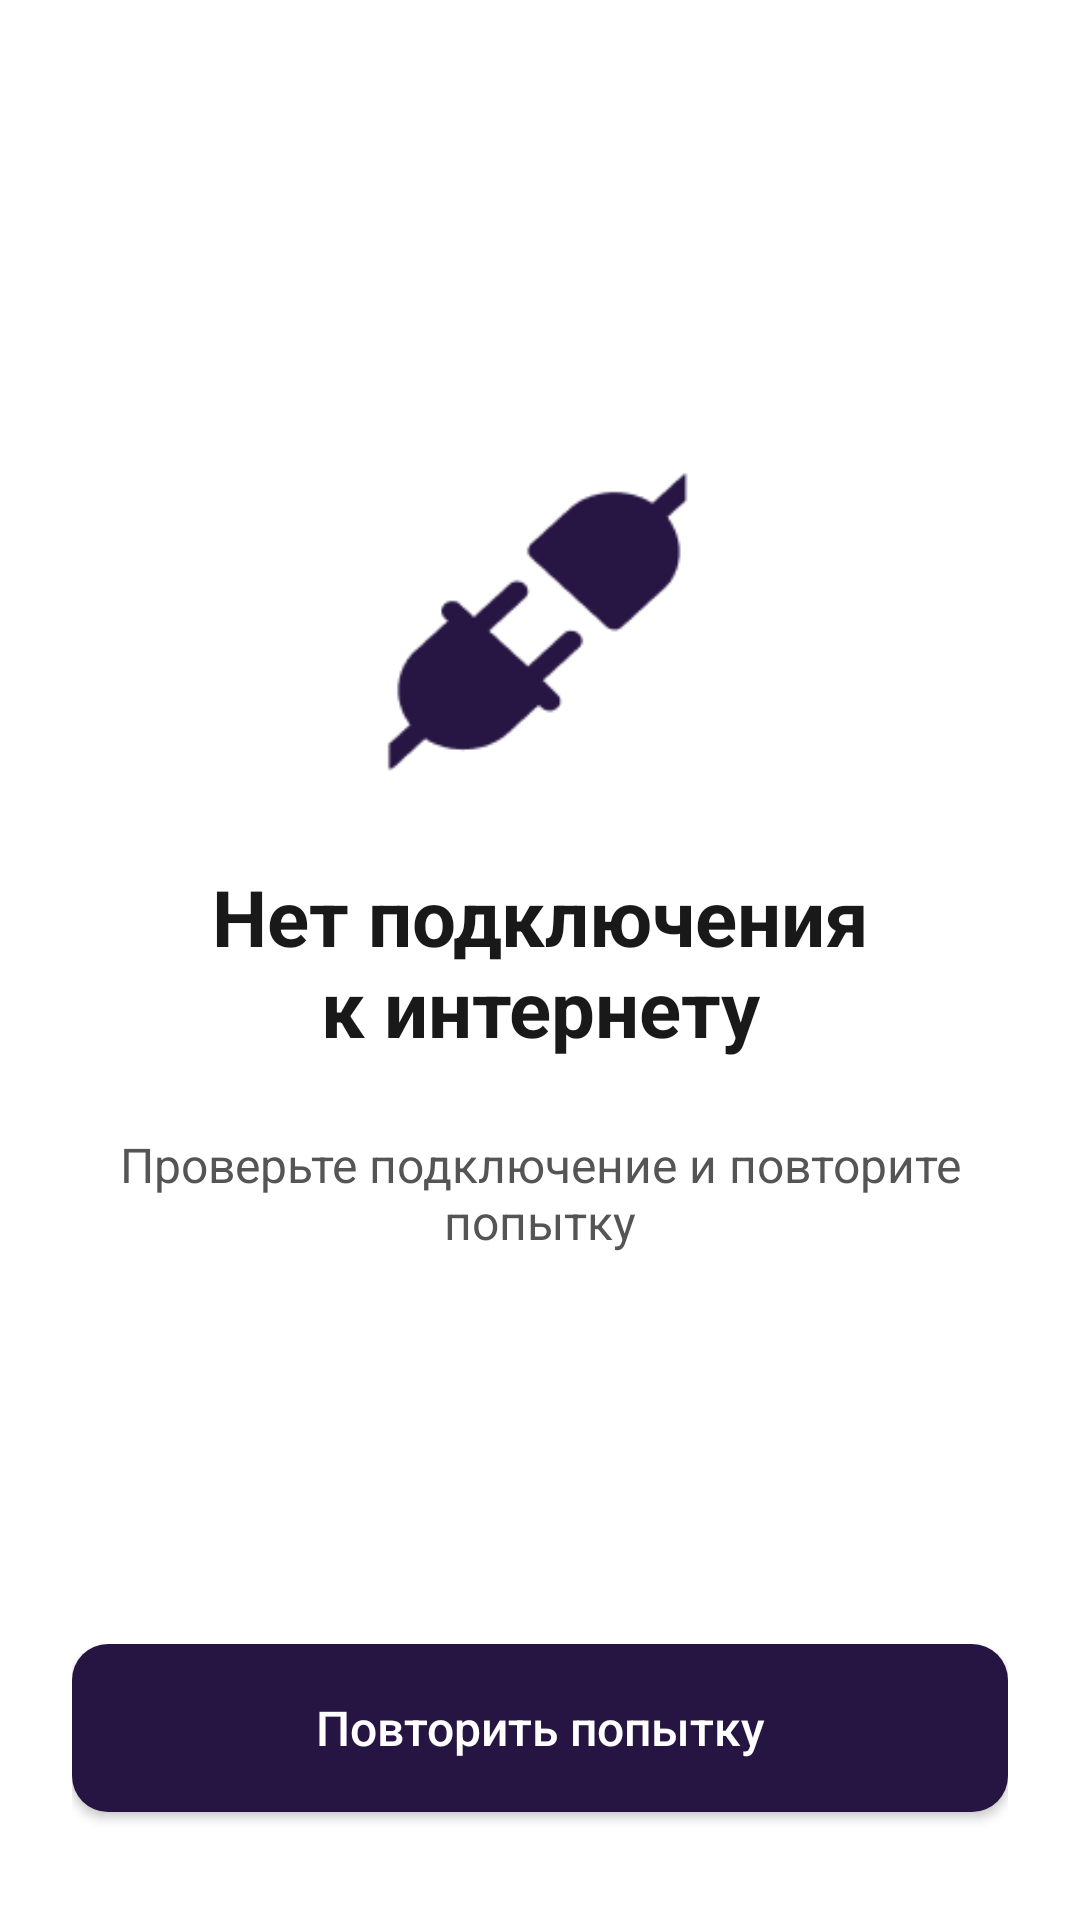

Point at icon controls on the screen. Image size 1080×1920, points as (x,y).
Разъединённые штекеры: (537,622)
